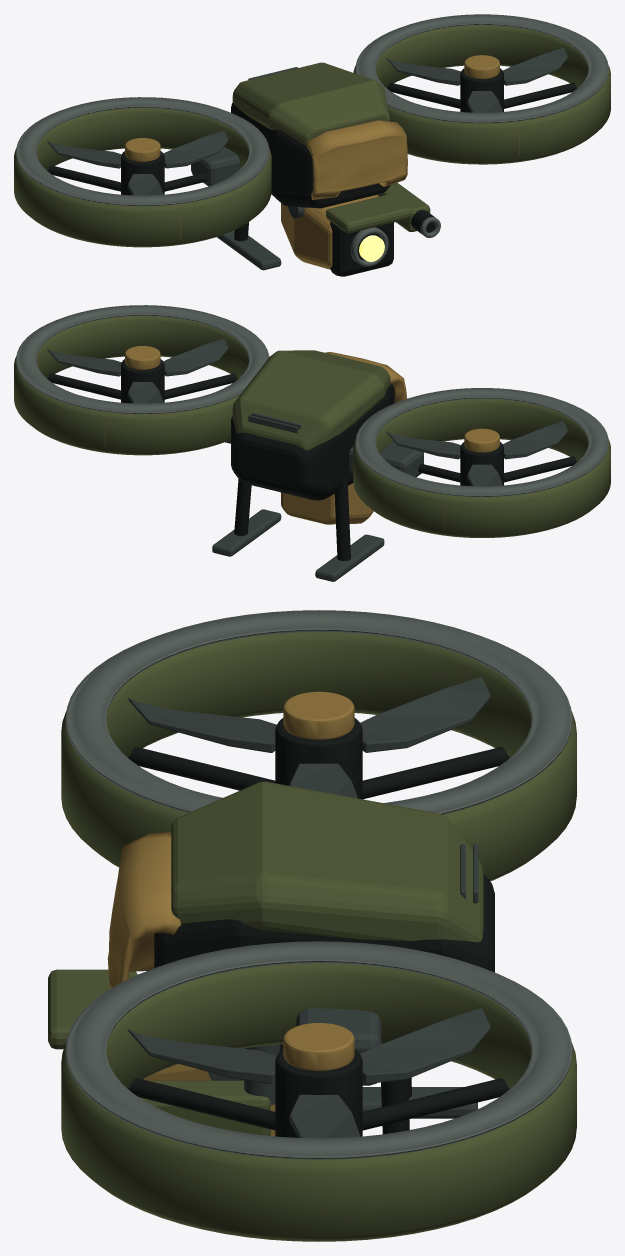
The model's file is BUZZ_DRONE.hi.glb.
The picture shows the model from 3 angles, top to bottom: view 1: azimuth 30°, elevation 25°; view 2: azimuth 150°, elevation 25°; view 3: azimuth 270°, elevation 25°; orthographic projection. The views are drawn at different scales.
Parts seen in each view (by area): view 1: FlightTilt_Mesh, OpticGimbal_Mesh, Rotor_R_Mesh, Rotor_L_Mesh, ProjectionNozzle_Mesh; view 2: FlightTilt_Mesh, Rotor_R_Mesh, Rotor_L_Mesh, OpticGimbal_Mesh; view 3: FlightTilt_Mesh, Rotor_R_Mesh, Rotor_L_Mesh, OpticGimbal_Mesh, ProjectionNozzle_Mesh.
Boxes of the visible parts, <box> form: FlightTilt_Mesh: <box>14,14,610,270</box>; OpticGimbal_Mesh: <box>281,193,411,276</box>; Rotor_R_Mesh: <box>386,48,567,112</box>; Rotor_L_Mesh: <box>47,130,228,195</box>; ProjectionNozzle_Mesh: <box>381,182,440,237</box>; FlightTilt_Mesh: <box>14,305,610,581</box>; Rotor_R_Mesh: <box>47,338,228,403</box>; Rotor_L_Mesh: <box>386,421,567,486</box>; OpticGimbal_Mesh: <box>281,483,373,524</box>; FlightTilt_Mesh: <box>61,610,576,1241</box>; Rotor_R_Mesh: <box>128,1008,490,1138</box>; Rotor_L_Mesh: <box>128,677,490,799</box>; OpticGimbal_Mesh: <box>48,969,275,1136</box>; ProjectionNozzle_Mesh: <box>139,1044,280,1135</box>.
Bounding box in the file's own units: 2.29 × 0.649 × 0.931.
